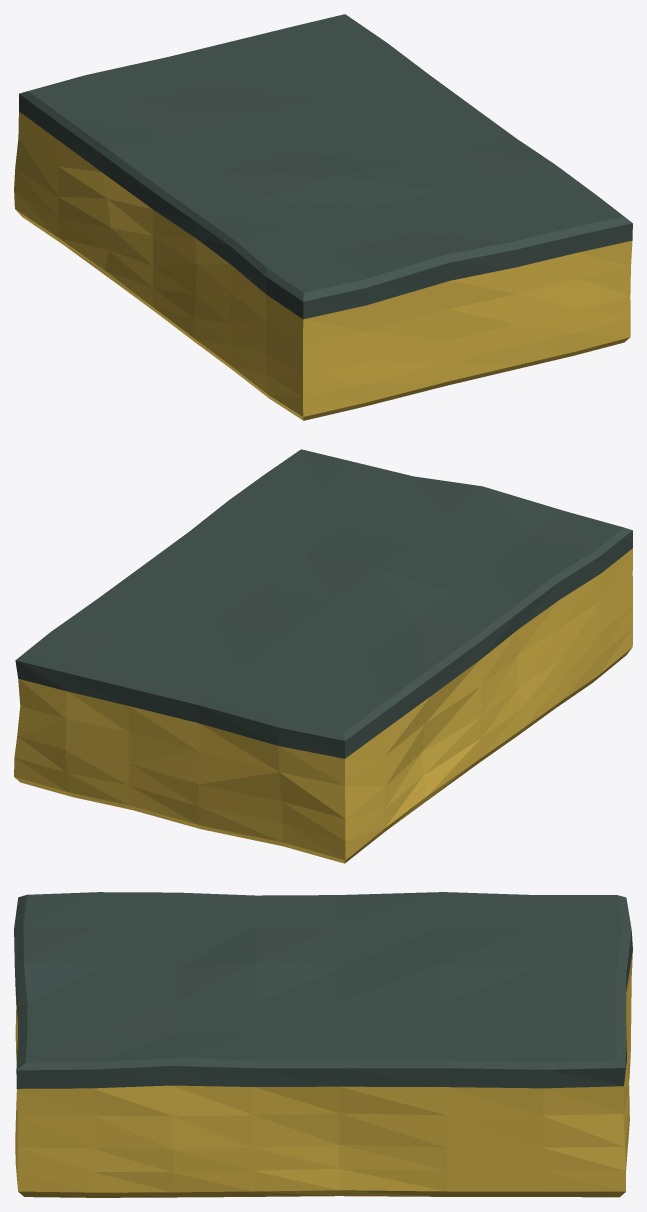
File: sponge.gltf
3 views of the same model, one above another, from view 1: azimuth 30°, elevation 25°; view 2: azimuth 150°, elevation 25°; view 3: azimuth 270°, elevation 25° (orthographic). The views are drawn at different scales.
Parts seen in each view (by area): view 1: node-0; view 2: node-0; view 3: node-0.
Part boxes in pixels (x1,y1,x2,y2): node-0: (14,14,632,420); node-0: (14,449,632,863); node-0: (14,892,632,1197).
Bounding box in the file's own units: 2.39 × 0.9187 × 3.59.
